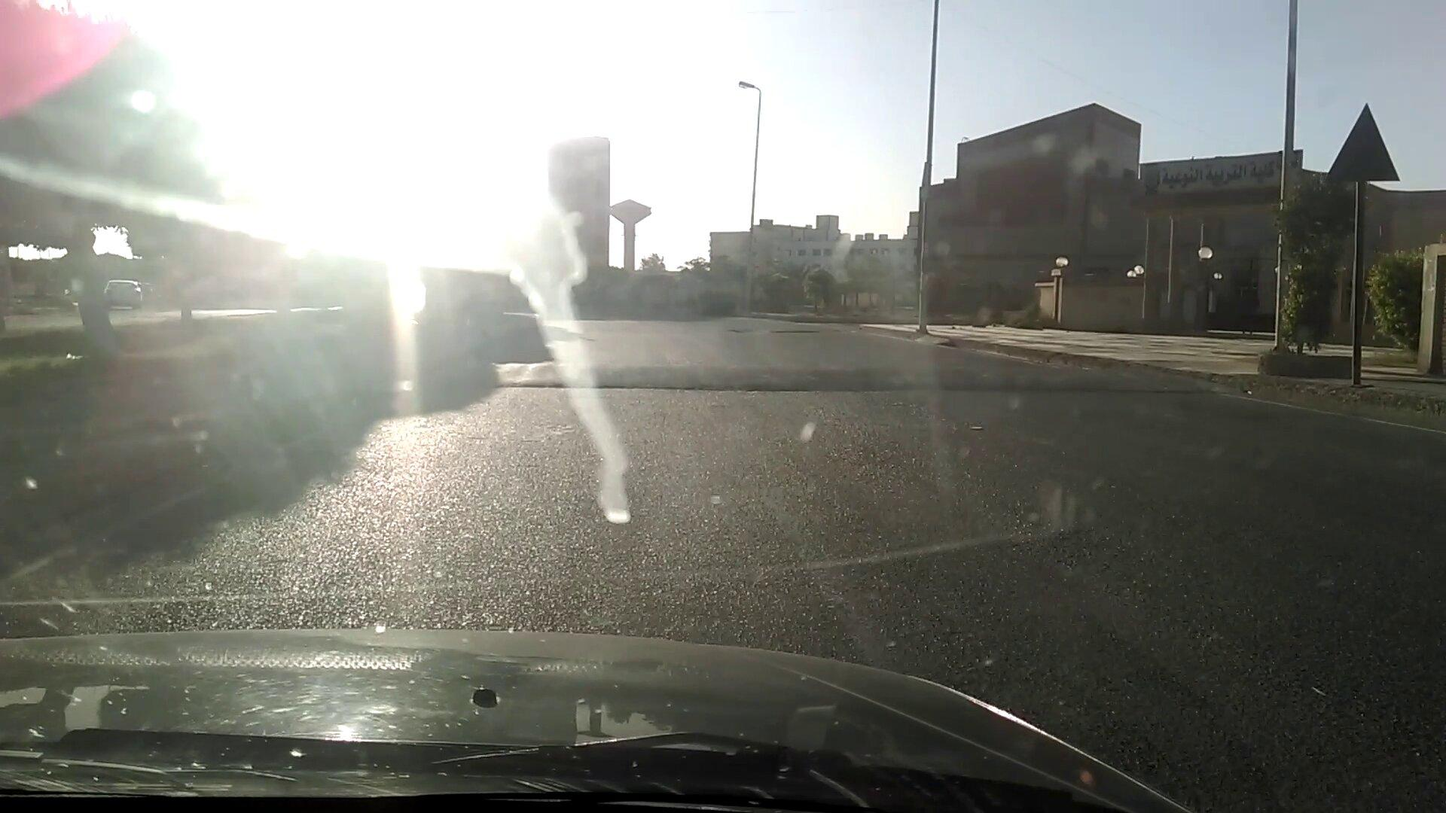Bump: (505, 359, 1218, 401)
